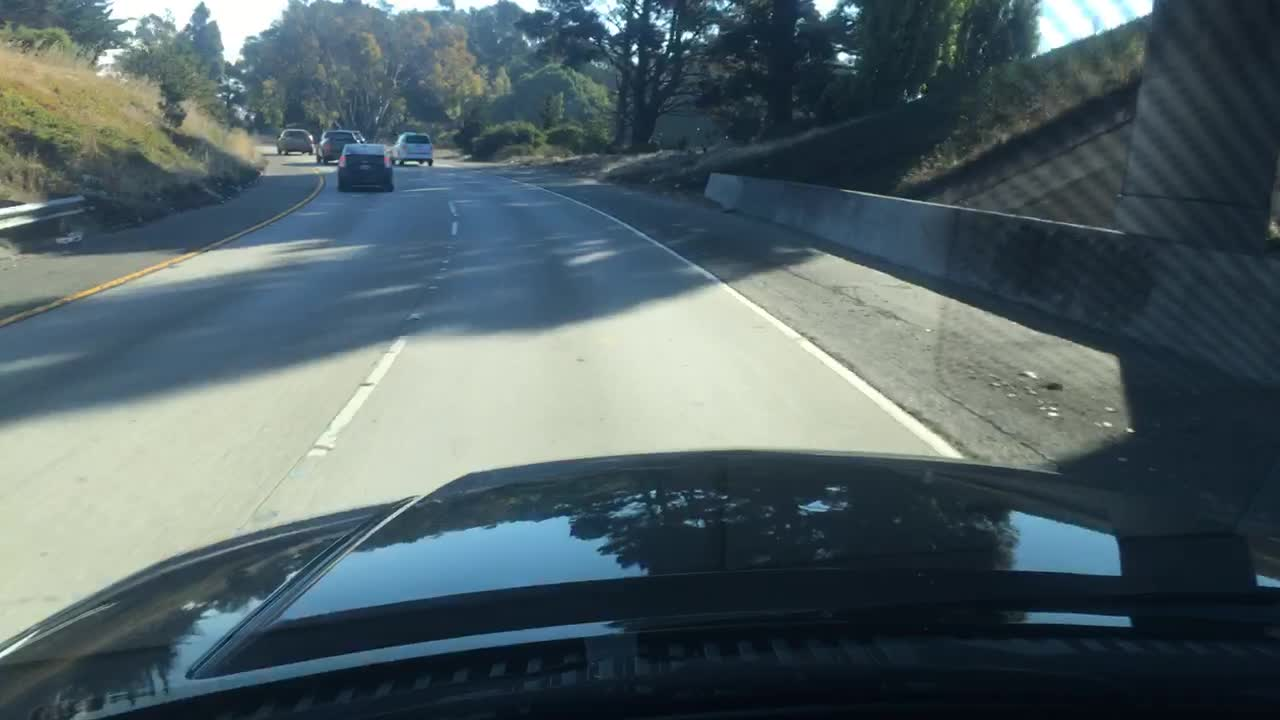car: (338, 143, 394, 194), (388, 130, 434, 166), (316, 131, 354, 161), (274, 127, 313, 156), (352, 130, 368, 143)
